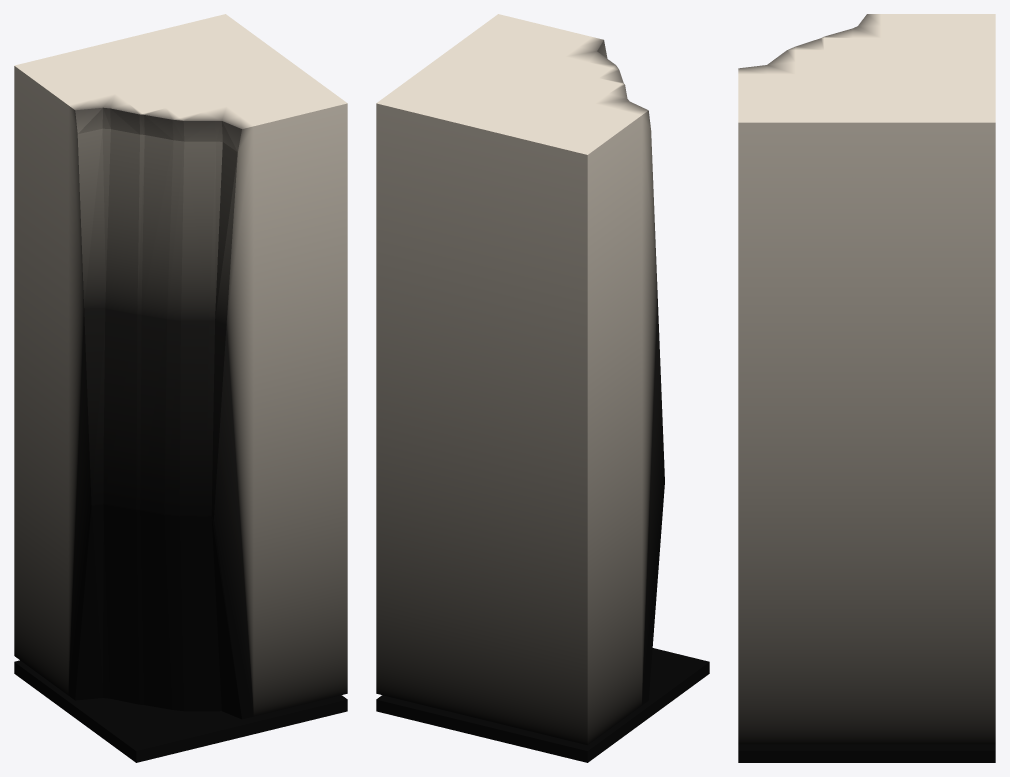
The model's file is SM_VKI_Ground_Cave_XOOO_Q11.fbx.
3 renders of one model, left to right at view 1: azimuth 30°, elevation 25°; view 2: azimuth 150°, elevation 25°; view 3: azimuth 270°, elevation 25°, orthographic. The views are drawn at different scales.
Parts seen in each view (by area): view 1: SM_VKI_Ground_Cave_XOOO_Q11.001; view 2: SM_VKI_Ground_Cave_XOOO_Q11.001; view 3: SM_VKI_Ground_Cave_XOOO_Q11.001.
Boxes of the visible parts, <box> form: SM_VKI_Ground_Cave_XOOO_Q11.001: <box>14,14,347,762</box>; SM_VKI_Ground_Cave_XOOO_Q11.001: <box>376,14,709,762</box>; SM_VKI_Ground_Cave_XOOO_Q11.001: <box>738,14,995,762</box>.
Bounding box in the file's own units: 1.5 × 4.12 × 1.5.
